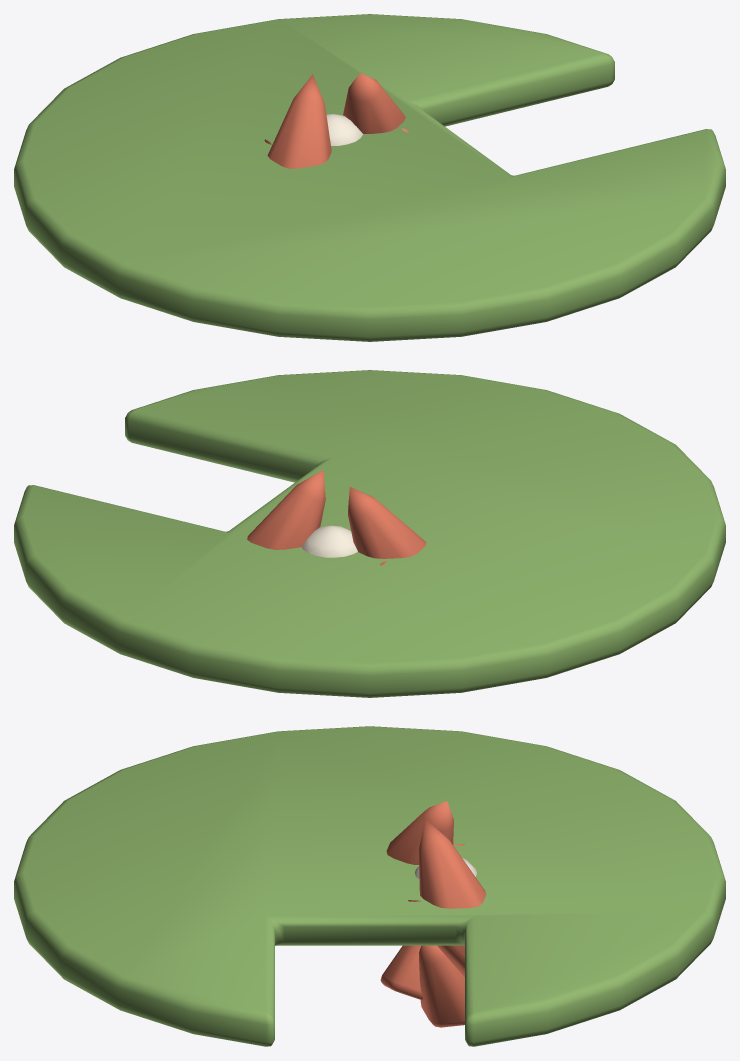
Rendered from lily_pad.glb.
3 views of the same model, one above another, from view 1: azimuth 30°, elevation 25°; view 2: azimuth 150°, elevation 25°; view 3: azimuth 270°, elevation 25° (orthographic).
Parts seen in each view (by area): view 1: lily_pad; view 2: lily_pad; view 3: lily_pad.
Boxes of the visible parts, bbox=[...] form: lily_pad: bbox=[14, 14, 725, 341]; lily_pad: bbox=[14, 370, 725, 697]; lily_pad: bbox=[14, 726, 725, 1046].
Size of the model in its own units: 1.46 by 0.4716 by 1.5.
